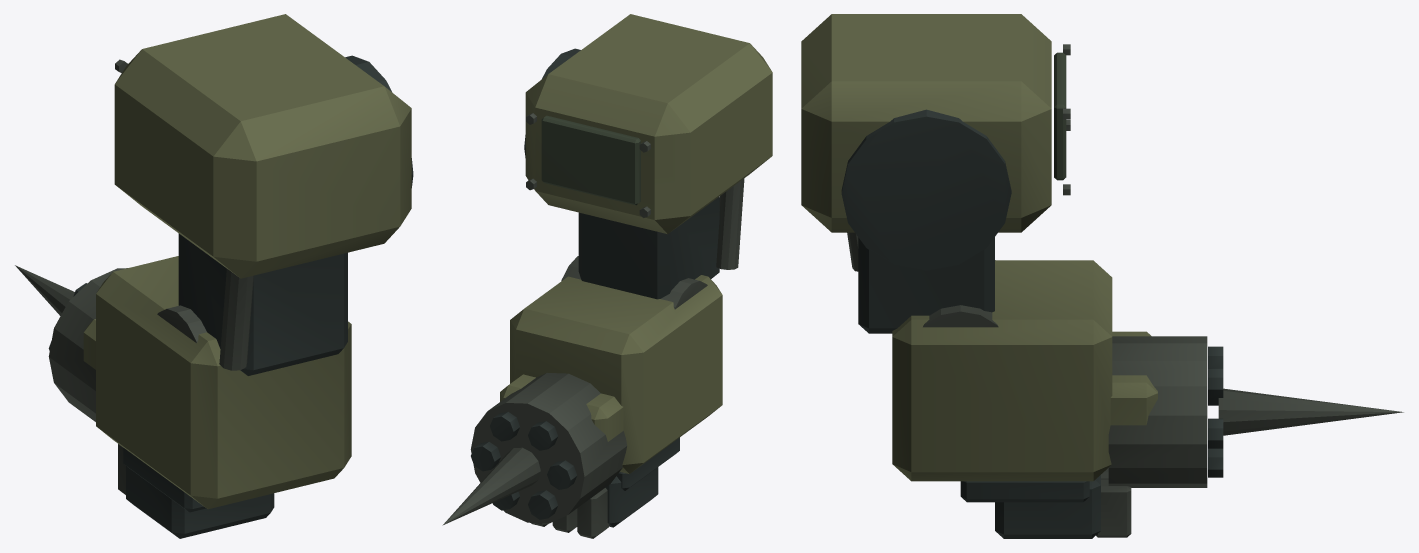
File: left_arm.glb
3 renders of one model, left to right at view 1: azimuth 30°, elevation 25°; view 2: azimuth 150°, elevation 25°; view 3: azimuth 270°, elevation 25°, orthographic. The views are drawn at different scales.
Visible parts, largest first — view 1: Shoulder_armour, Forearm_armour, Upper_arm_drive, PB4_Revolver, Hand_palm, Arm_ram.001, Wrist_cuff, PB4_Stake, Elbow_pin, Stake_support, Shoulder_coupling; view 2: Shoulder_armour, Forearm_armour, PB4_Revolver, Upper_arm_drive, Shoulder_camo, PB4_Stake, Arm_ram.001, Hand_palm, Stake_support, Grip_finger, Elbow_pin, Wrist_cuff (+5 smaller); view 3: Forearm_armour, Shoulder_armour, Shoulder_coupling, PB4_Revolver, Upper_arm_drive, PB4_Stake, Hand_palm, Wrist_cuff, Stake_support, Grip_finger.002, Shoulder_camo, Elbow_pin.
Part boxes in pixels (<box>): Shoulder_armour: <box>114,14,411,278</box>; Forearm_armour: <box>96,256,351,509</box>; Upper_arm_drive: <box>178,233,347,375</box>; PB4_Revolver: <box>48,268,127,421</box>; Hand_palm: <box>126,466,274,538</box>; Arm_ram.001: <box>219,269,253,370</box>; Wrist_cuff: <box>123,448,206,512</box>; PB4_Stake: <box>15,265,74,315</box>; Elbow_pin: <box>157,305,206,343</box>; Stake_support: <box>83,319,95,369</box>; Shoulder_coupling: <box>345,55,413,187</box>; Shoulder_armour: <box>525,14,772,234</box>; Forearm_armour: <box>510,275,722,473</box>; PB4_Revolver: <box>470,373,627,523</box>; Upper_arm_drive: <box>578,196,719,299</box>; Shoulder_camo: <box>541,115,640,205</box>; PB4_Stake: <box>442,447,540,525</box>; Arm_ram.001: <box>716,178,744,269</box>; Hand_palm: <box>605,467,658,527</box>; Stake_support: <box>500,374,623,441</box>; Grip_finger: <box>577,488,608,538</box>; Elbow_pin: <box>561,256,707,309</box>; Wrist_cuff: <box>616,437,679,490</box>; Forearm_armour: <box>892,260,1112,481</box>; Shoulder_armour: <box>801,14,1051,232</box>; Shoulder_coupling: <box>841,109,1011,270</box>; PB4_Revolver: <box>1108,336,1207,487</box>; Upper_arm_drive: <box>858,237,994,333</box>; PB4_Stake: <box>1218,388,1403,435</box>; Hand_palm: <box>995,475,1100,538</box>; Wrist_cuff: <box>960,481,1089,502</box>; Stake_support: <box>1110,331,1157,425</box>; Grip_finger.002: <box>1096,479,1131,537</box>; Shoulder_camo: <box>1054,52,1066,180</box>; Elbow_pin: <box>923,260,998,327</box>.
Bounding box in the file's own units: 0.3 × 0.6875 × 0.795.
